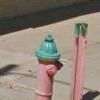Hydrant: (32, 29, 64, 99)
